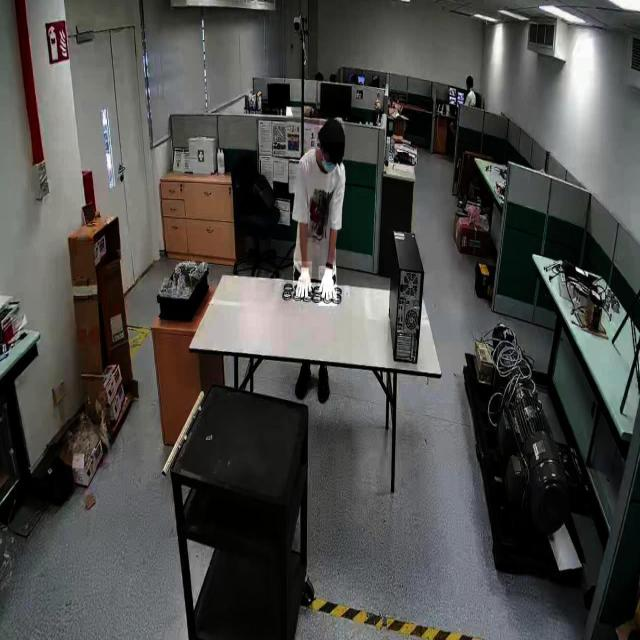face_mask: (320, 146, 334, 178)
hand_glove: (293, 262, 313, 302), (318, 266, 338, 306)
head_nohelmet: (319, 117, 345, 143), (466, 74, 473, 82)
person: (283, 98, 353, 396)
shoes: (292, 360, 312, 404), (314, 363, 333, 404)
